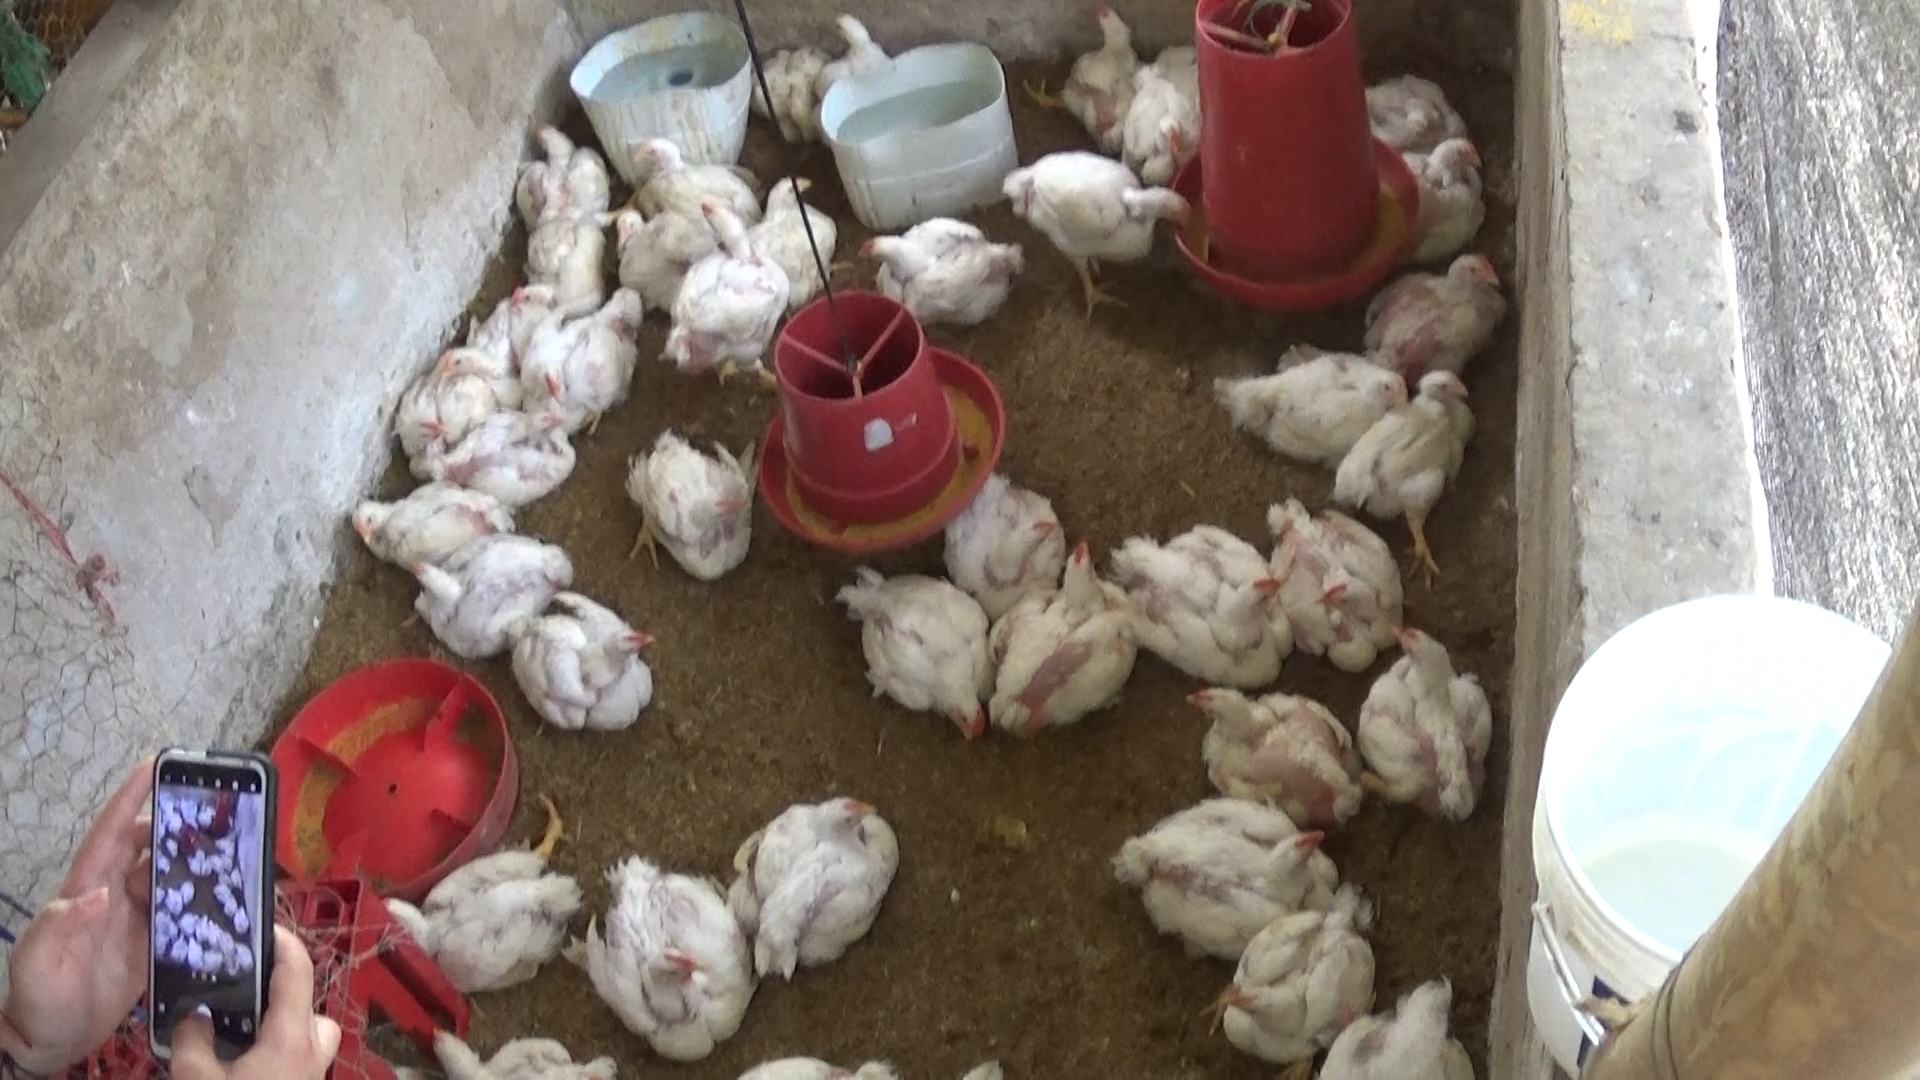Pollos: (375, 796, 571, 1002), (1108, 794, 1350, 953), (723, 775, 909, 982), (1187, 884, 1395, 1065), (1323, 363, 1499, 576), (576, 852, 754, 1063), (1001, 148, 1196, 320), (829, 554, 993, 749), (1121, 504, 1294, 686), (1171, 665, 1364, 825), (971, 541, 1131, 731), (491, 589, 671, 753), (1357, 612, 1495, 822), (1212, 343, 1406, 483), (663, 191, 789, 400), (615, 422, 757, 593), (1269, 498, 1408, 671), (847, 200, 1015, 328), (1350, 241, 1505, 378), (1013, 0, 1160, 138), (526, 284, 647, 436), (407, 531, 562, 649), (1120, 42, 1244, 187), (938, 458, 1062, 600), (345, 483, 512, 582), (626, 135, 777, 239), (415, 409, 575, 496), (1350, 58, 1484, 162), (436, 314, 556, 426), (508, 117, 613, 244), (742, 158, 836, 299), (506, 219, 604, 332), (1395, 137, 1487, 251), (601, 200, 711, 295), (819, 11, 898, 82)
